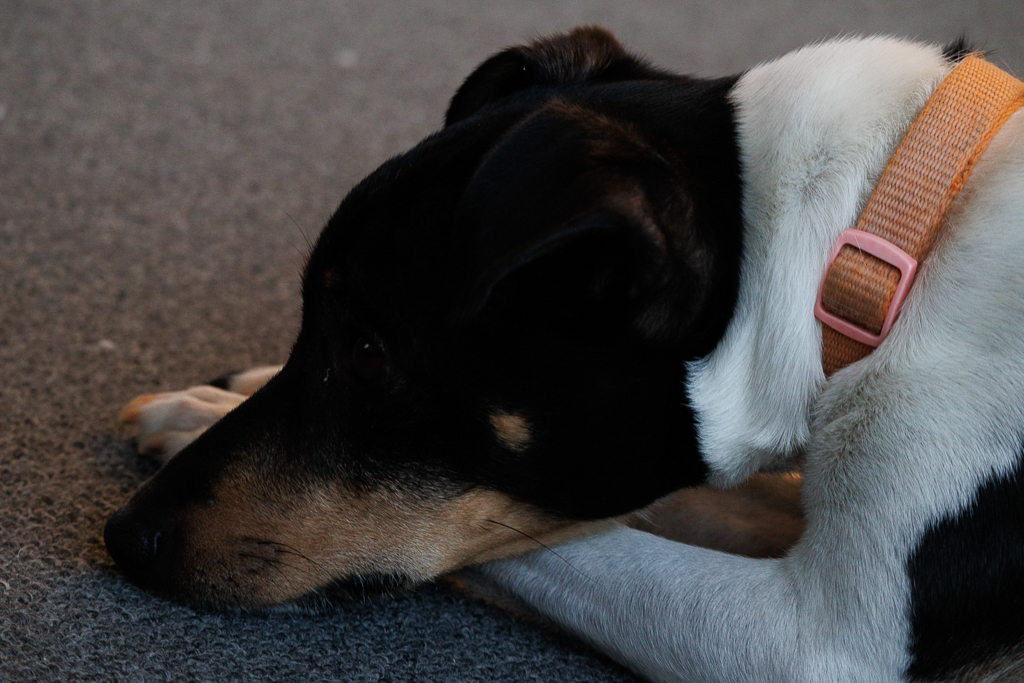Dog: (83, 12, 1024, 683)
